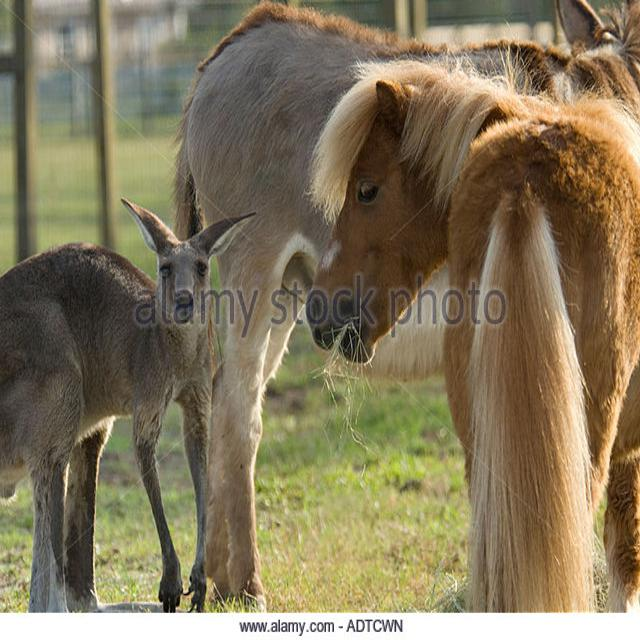kangaroo: (2, 204, 256, 581)
